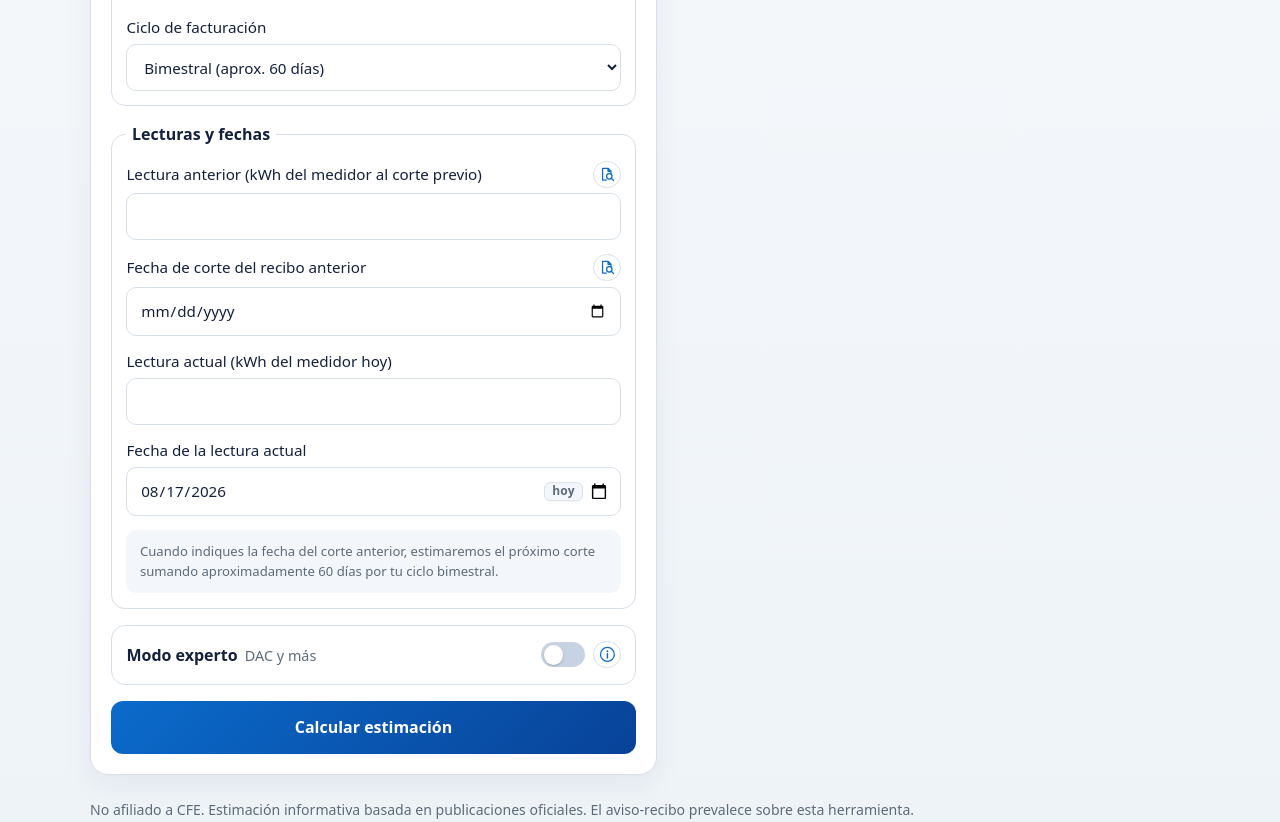
App › shows approximate newest-to-oldest DAC history date hints from the previous cutoff
(page scrolled)
Click the switch named "Modo experto" at x=563, y=655, box [541,640,585,670]
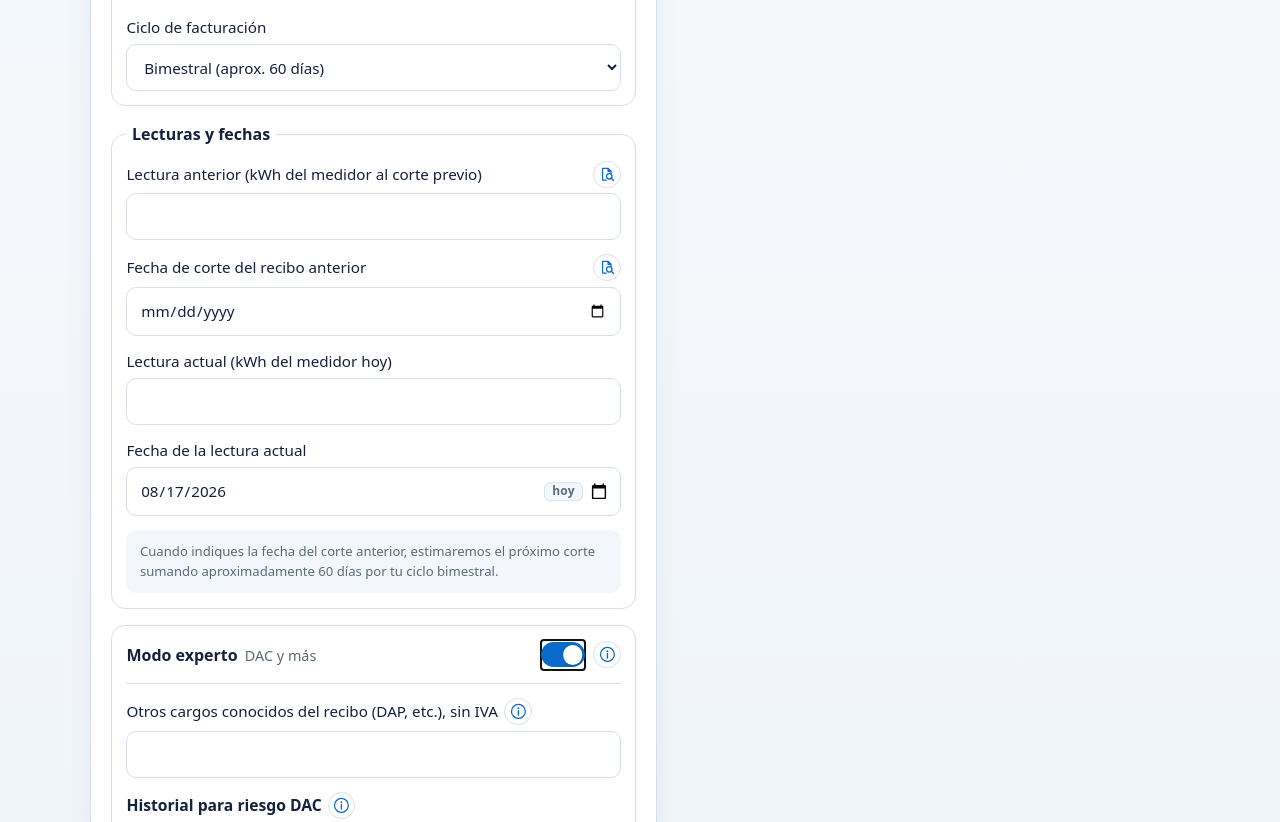
Expected: the text "≈" is not shown
Type "2026-04-24" into the date field labelled "Fecha de corte del recibo anterior" at x=374, y=311, box [126,287,621,336]
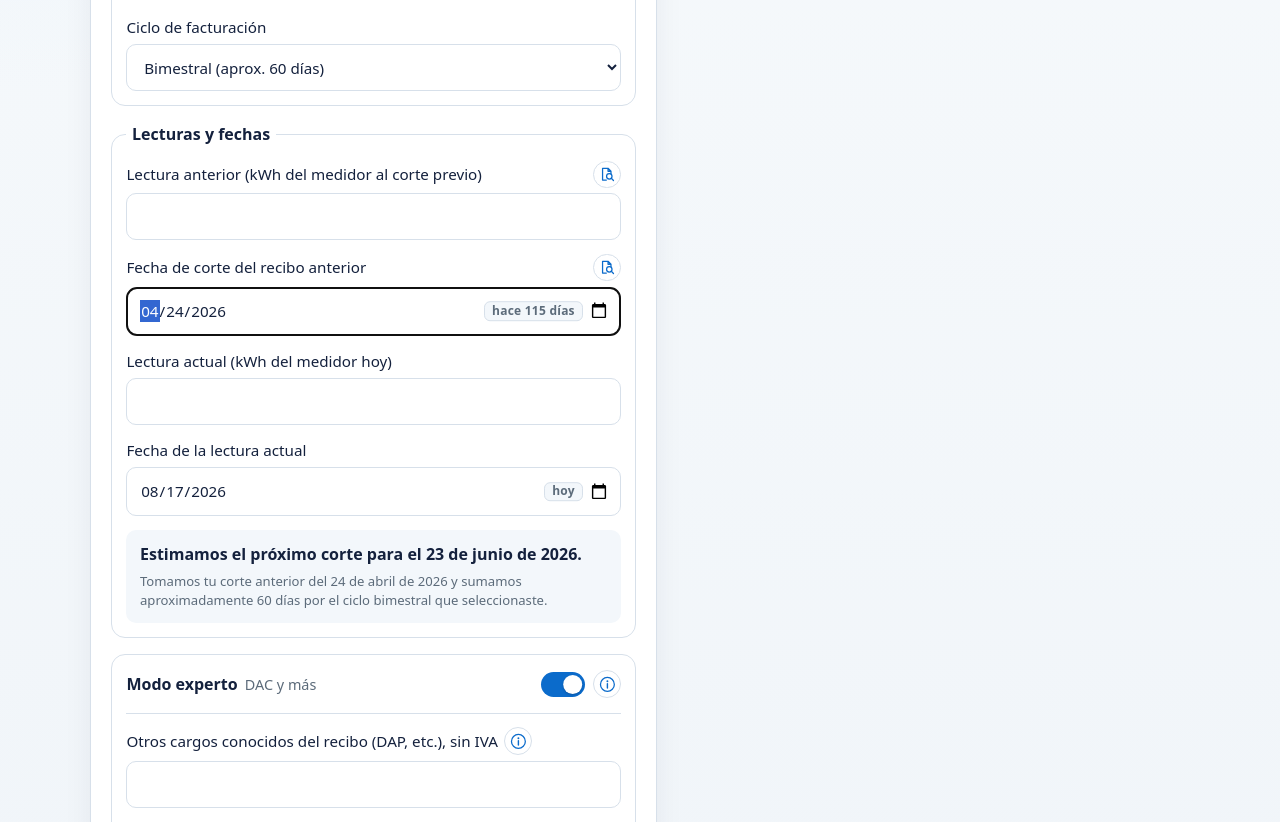
Select "Mensual (aprox. 30 días)" in the dropdown labelled "Ciclo de facturación" at x=374, y=68, box [126,44,621,91]
(page scrolled)
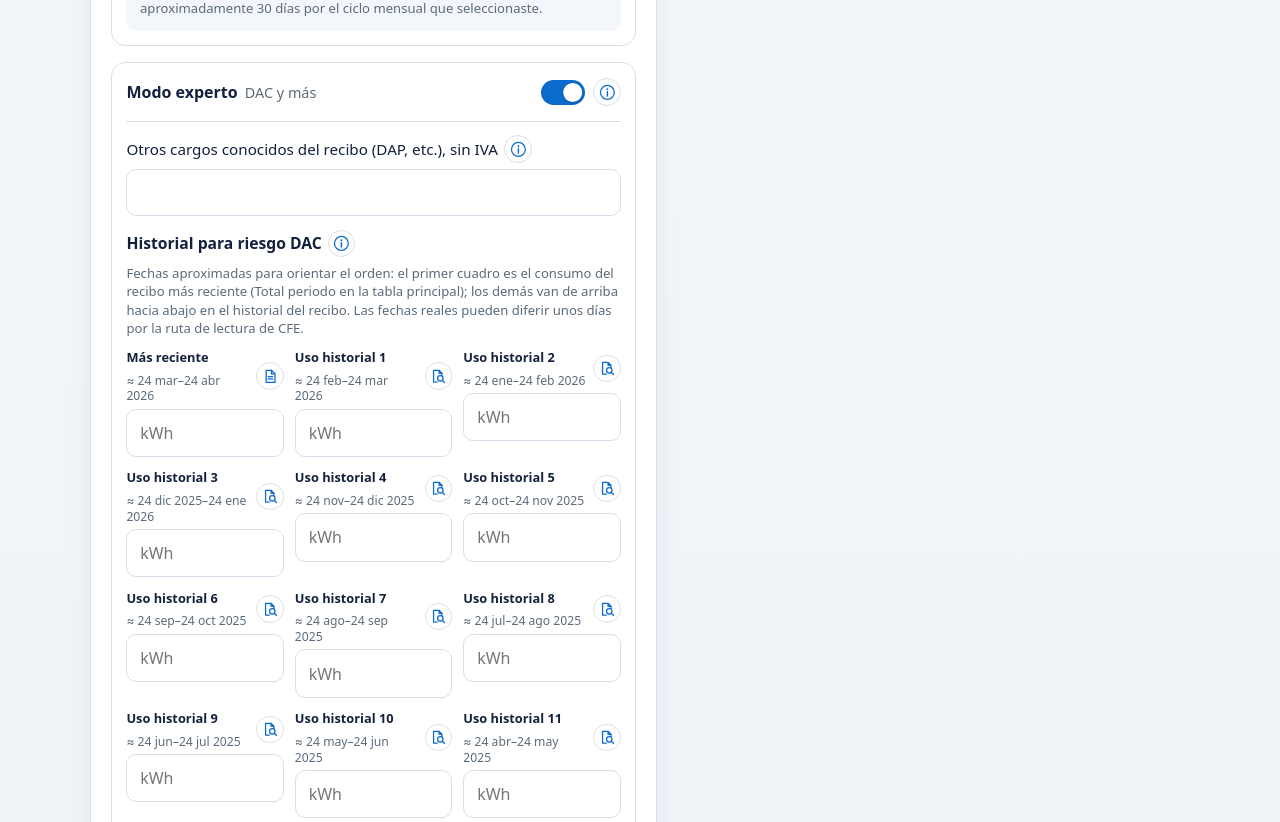
Expected: the number of number fields labelled "Uso historial 1 ≈ 24 feb–24 mar 2026" is 11
Expected: the text "Uso historial 11" is shown, [463,709,562,728]
Expected: the text "≈ 24 mar–24 abr 2026" is shown 12 times
